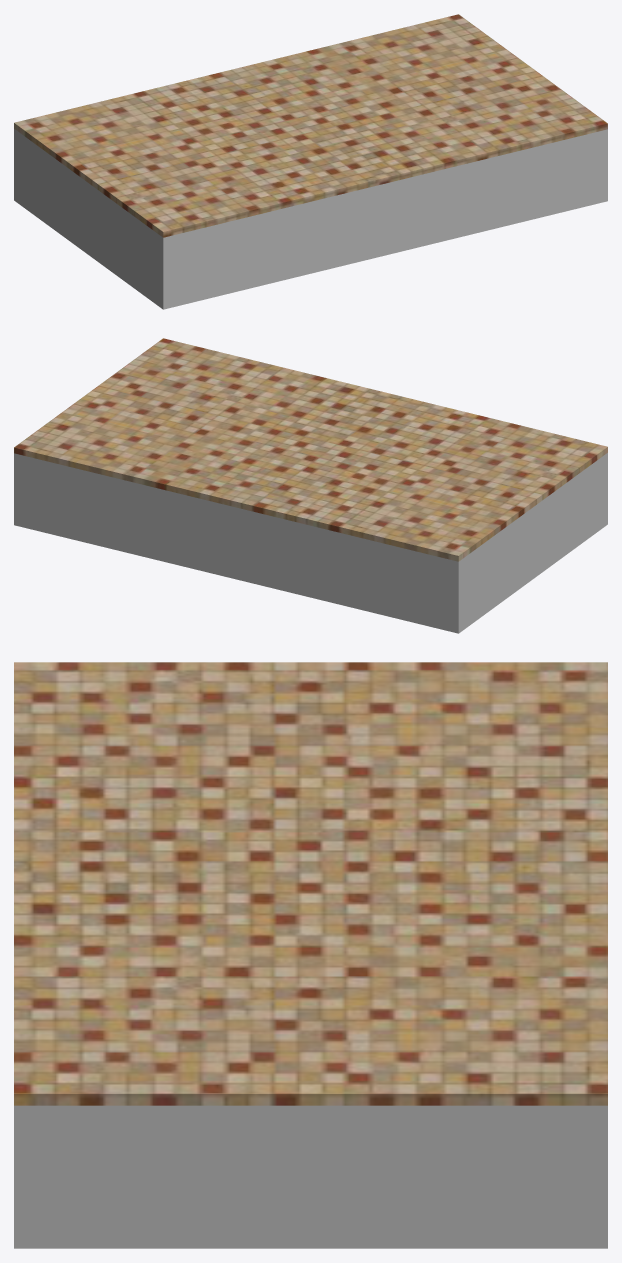
File: parts_base_01d.fbx
The picture shows the model from 3 angles, top to bottom: view 1: azimuth 30°, elevation 25°; view 2: azimuth 150°, elevation 25°; view 3: azimuth 270°, elevation 25°; orthographic projection. The views are drawn at different scales.
Visible parts, largest first — view 1: parts_base_01d; view 2: parts_base_01d; view 3: parts_base_01d.
Boxes of the visible parts, x1,y1,x2,y2 form: parts_base_01d: (14, 14, 607, 309); parts_base_01d: (14, 338, 607, 633); parts_base_01d: (14, 662, 607, 1248).
Size of the model in its own units: 16.1 by 2.69 by 9.36.
